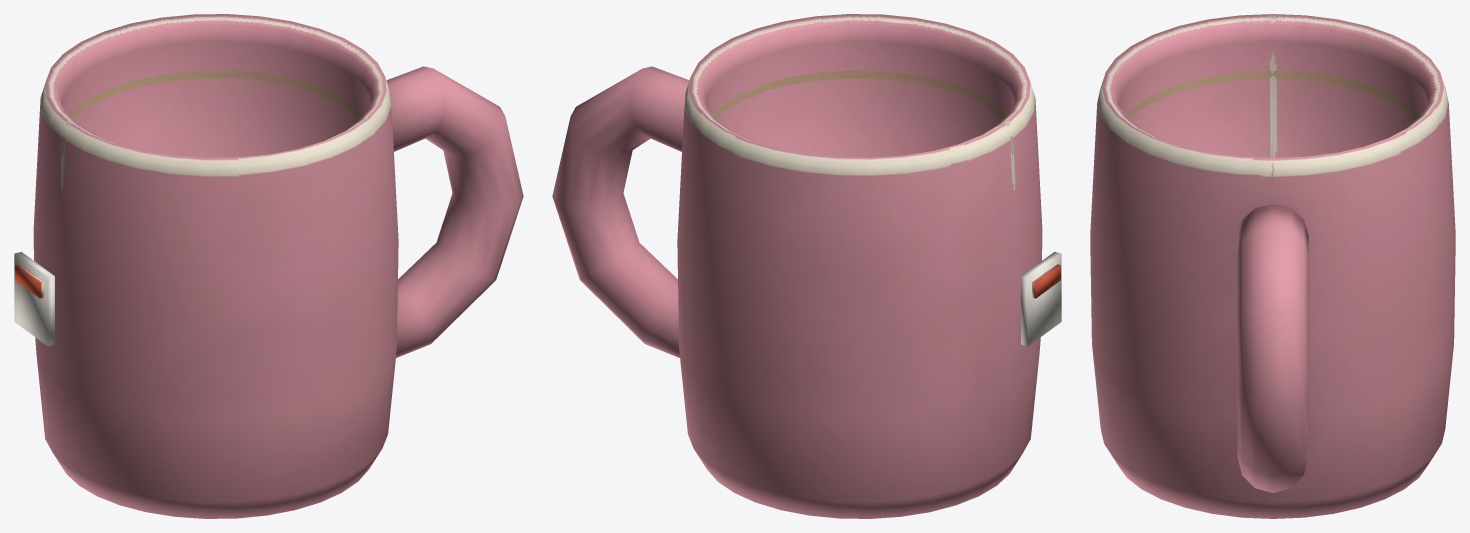
The model's file is mug_milktea_b2.glb.
3 renders of one model, left to right at view 1: azimuth 30°, elevation 25°; view 2: azimuth 150°, elevation 25°; view 3: azimuth 270°, elevation 25°, orthographic.
Parts seen in each view (by area): view 1: prop_mug_milktea_b2_felt; view 2: prop_mug_milktea_b2_felt; view 3: prop_mug_milktea_b2_felt.
Part boxes in pixels (x1,y1,x2,y2): prop_mug_milktea_b2_felt: [14, 14, 523, 518]; prop_mug_milktea_b2_felt: [552, 14, 1061, 518]; prop_mug_milktea_b2_felt: [1090, 14, 1455, 518].
Size of the model in its own units: 0.2032 by 0.1447 by 0.131.
Materials: 1 (1 with a texture image).
